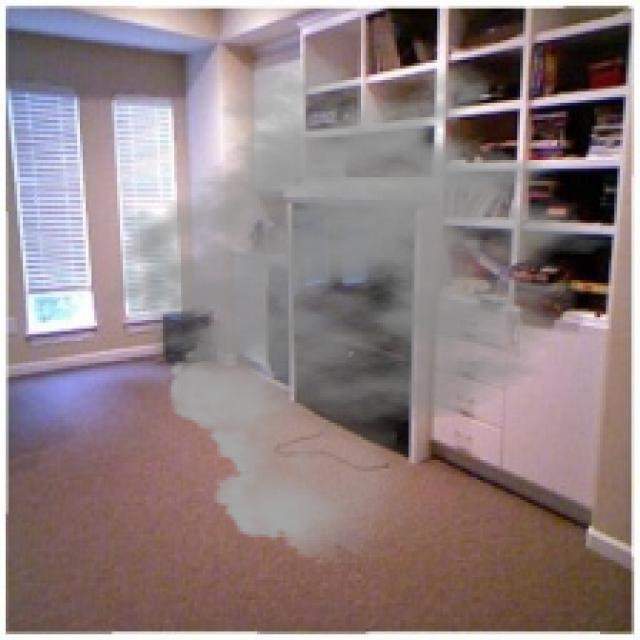Smoke: (100, 49, 637, 568)
